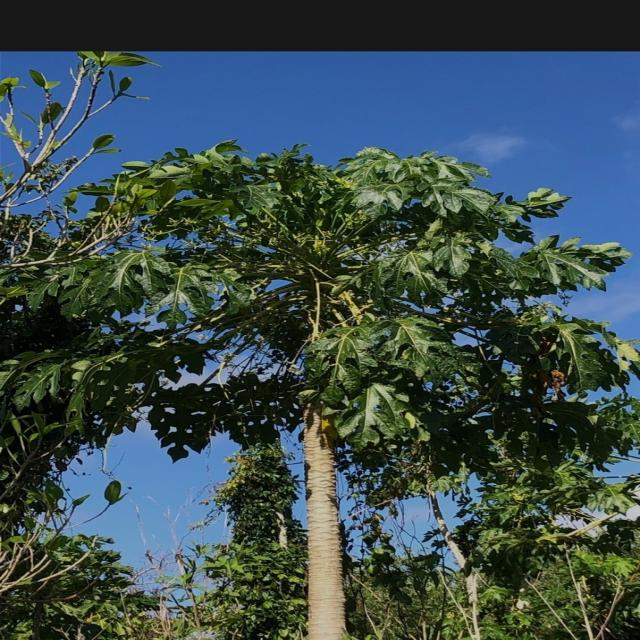Papaya-Tree: (118, 154, 586, 640)
